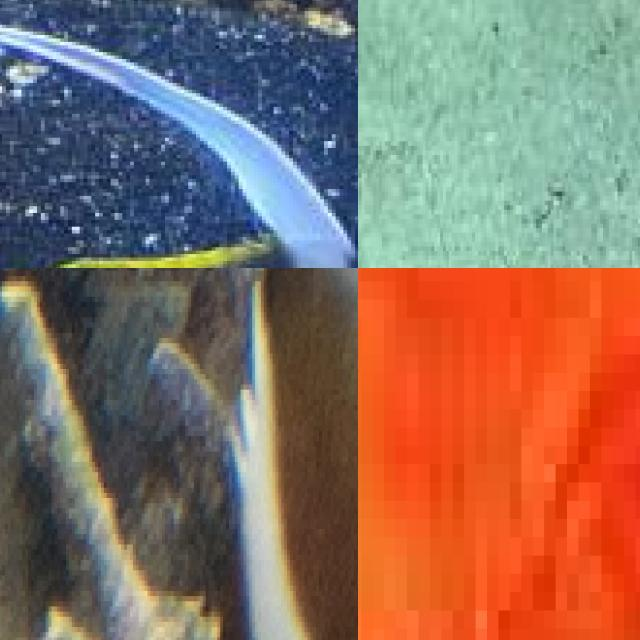fish: (0, 0, 358, 268), (0, 268, 63, 640)
